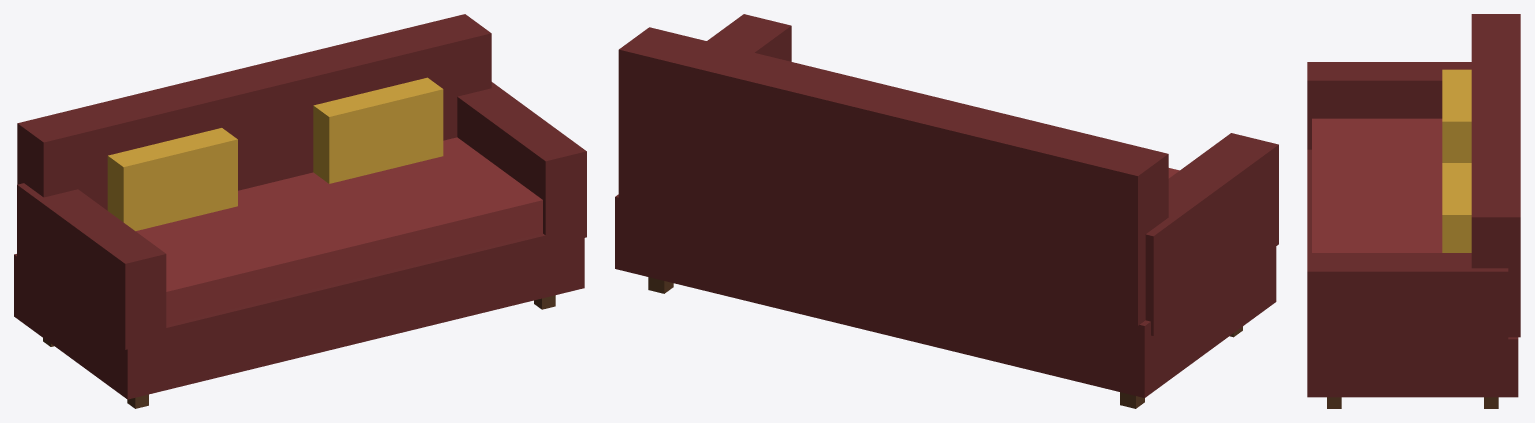
The model's file is sofa.glb.
The picture shows the model from 3 angles, left to right: view 1: azimuth 30°, elevation 25°; view 2: azimuth 150°, elevation 25°; view 3: azimuth 270°, elevation 25°; orthographic projection. The views are drawn at different scales.
Parts seen in each view (by area): view 1: sofa-6d2a2a, sofa-8a3636, sofa-d8a93b; view 2: sofa-6d2a2a, sofa-5e3b22; view 3: sofa-6d2a2a, sofa-8a3636, sofa-d8a93b, sofa-5e3b22.
Part boxes in pixels (x1,y1,x2,y2): sofa-6d2a2a: [14, 14, 586, 399]; sofa-8a3636: [136, 137, 542, 325]; sofa-d8a93b: [107, 77, 443, 231]; sofa-6d2a2a: [615, 14, 1278, 397]; sofa-5e3b22: [648, 277, 1242, 408]; sofa-6d2a2a: [1307, 14, 1520, 397]; sofa-8a3636: [1312, 118, 1442, 252]; sofa-d8a93b: [1442, 69, 1471, 252]; sofa-5e3b22: [1327, 397, 1498, 408].
Size of the model in its own units: 2.02 by 0.89 by 0.87.
